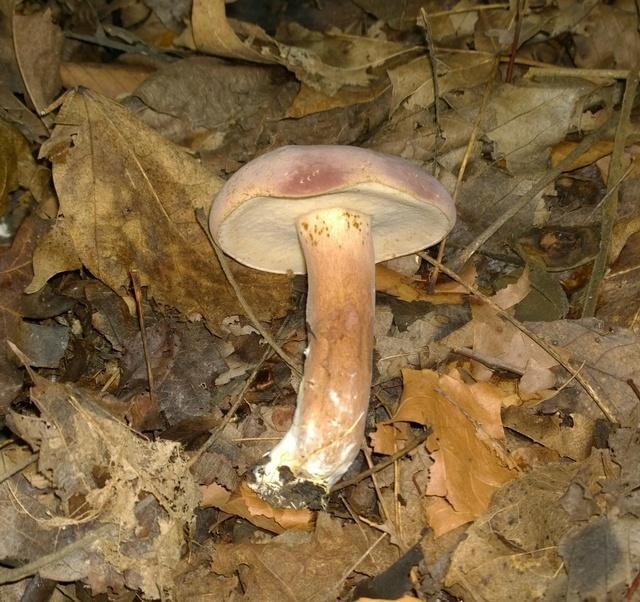poisonous_mushroom: (206, 142, 457, 511)
